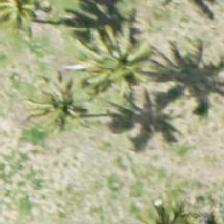coconut_tree: (89, 3, 179, 93), (13, 65, 103, 155), (0, 0, 68, 52)
